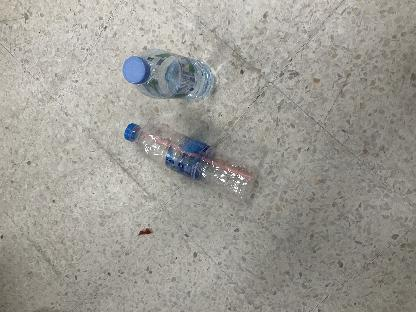Plastic Bottle: (125, 124, 261, 206), (122, 47, 216, 100)
